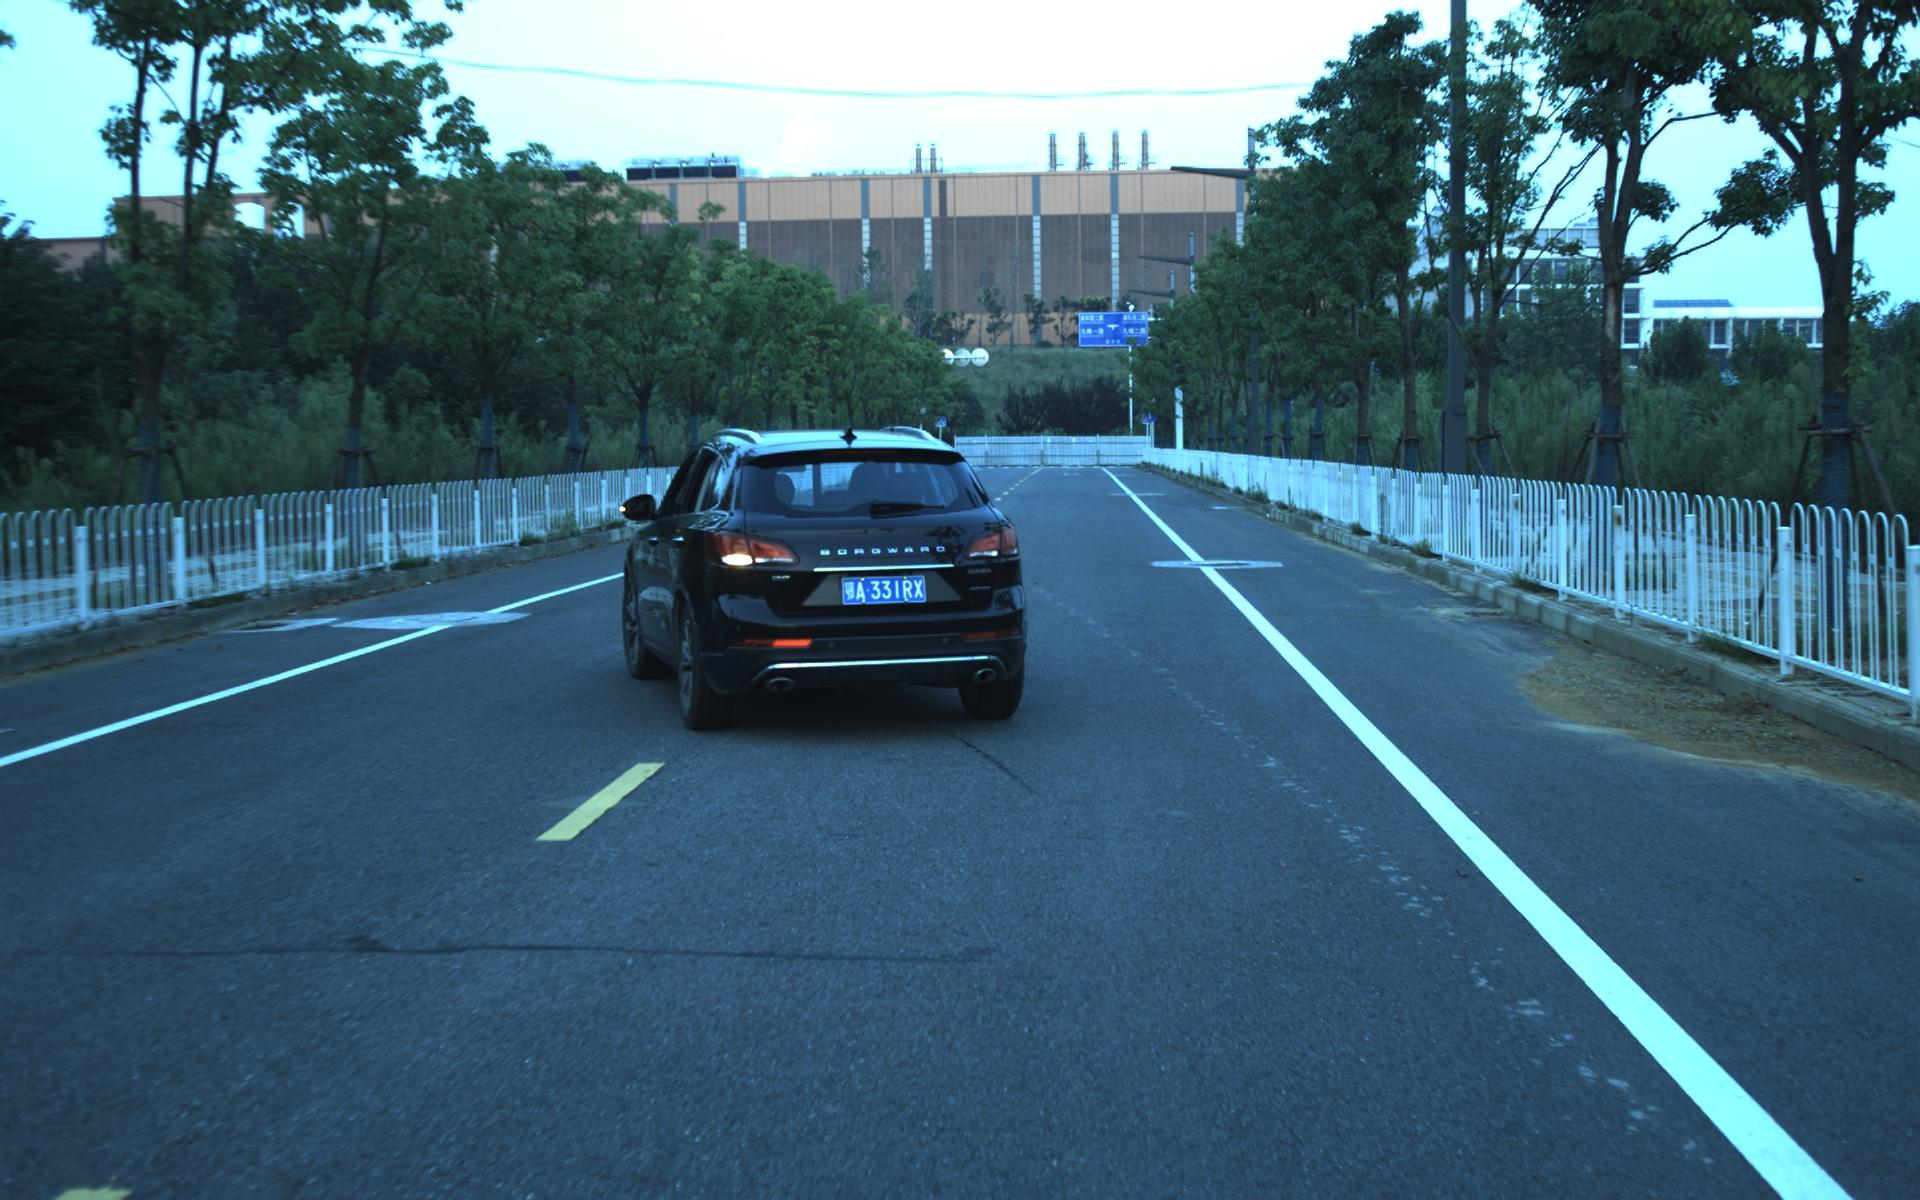Car: (610, 418, 1035, 745)
